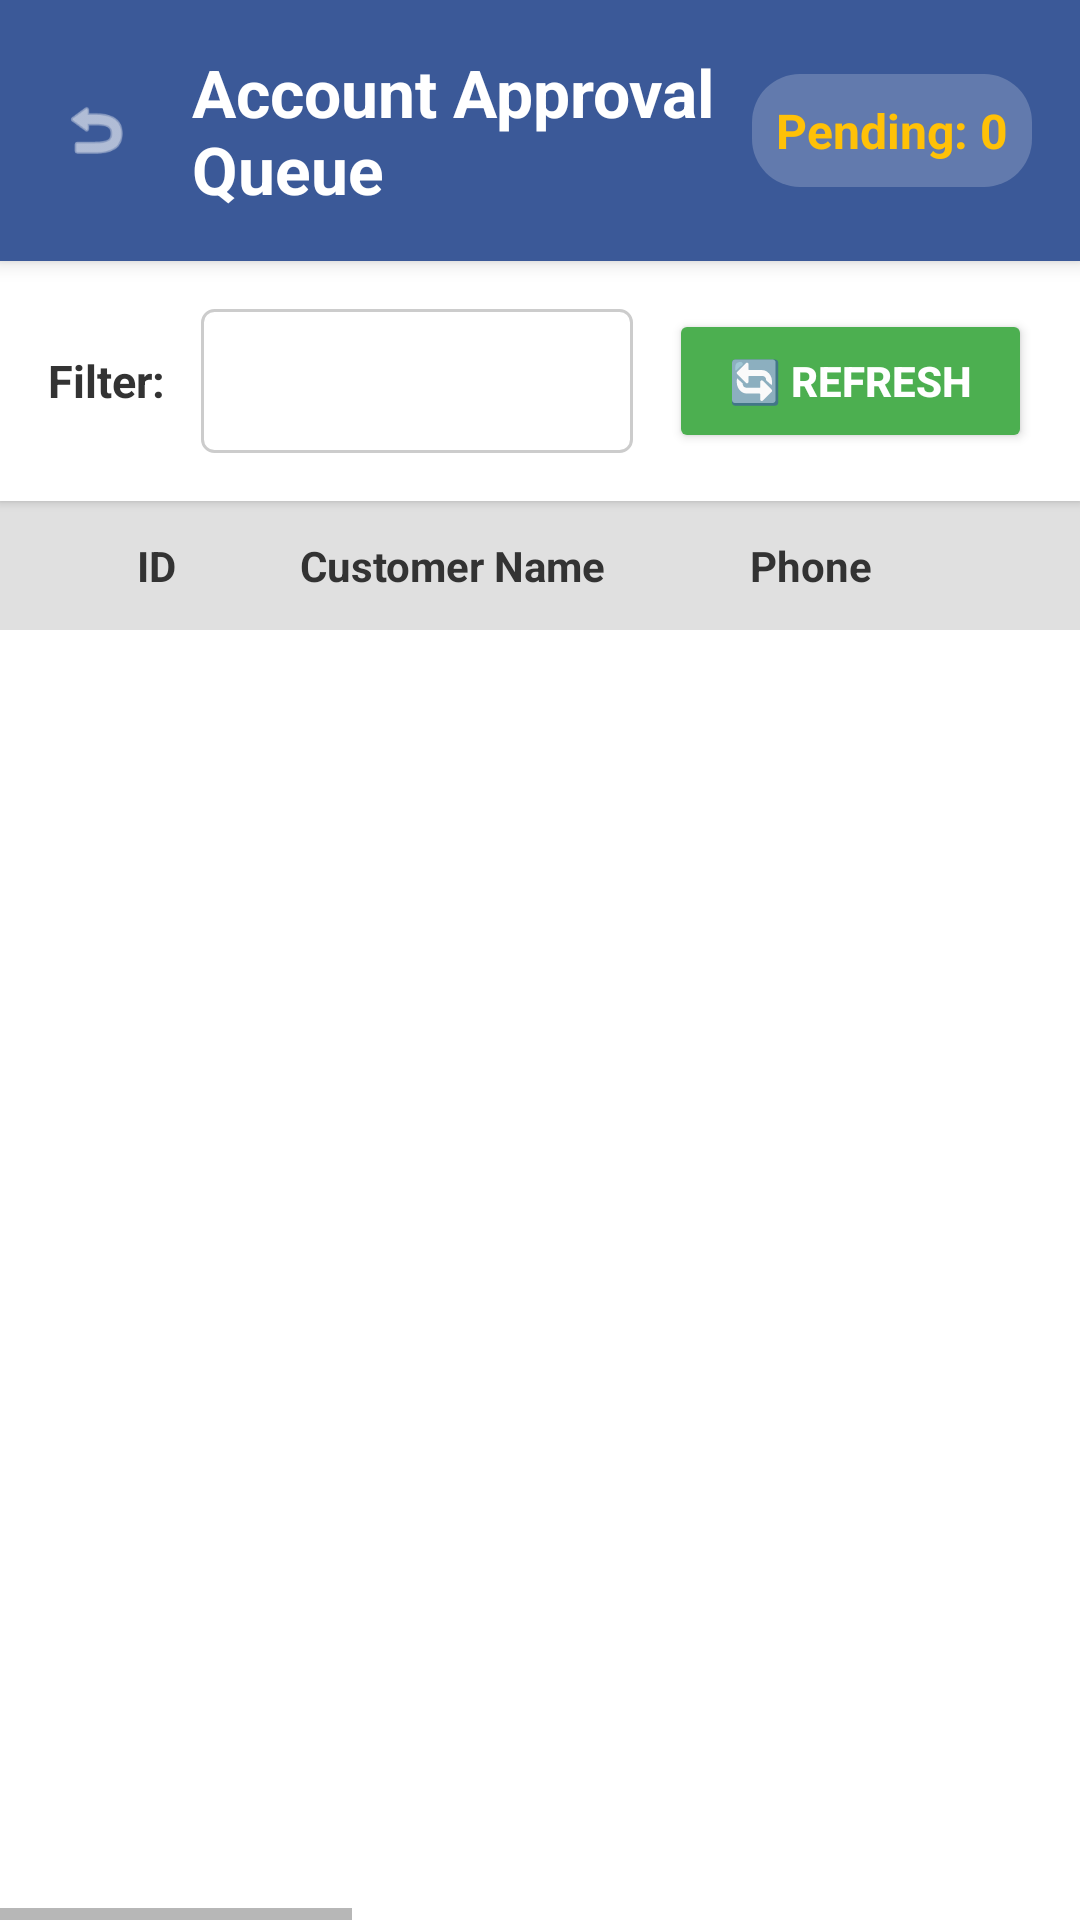

Icon click points for this 1080x1920 phone screenshot, format point (x, y):
Back: point (97, 130)
